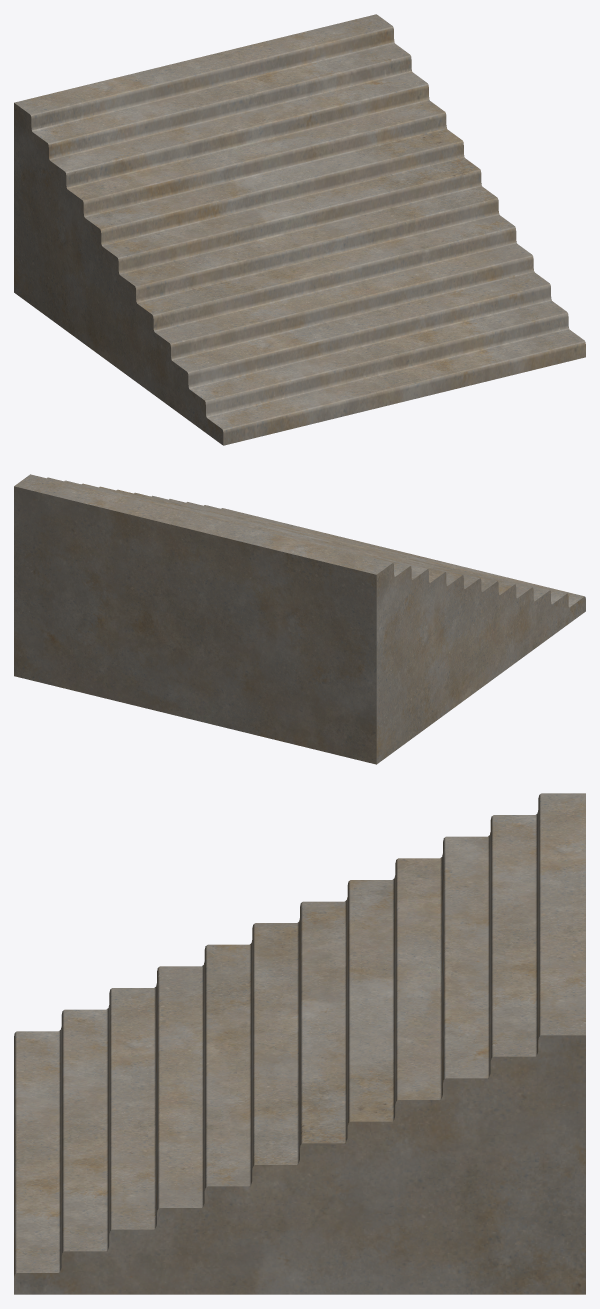
File: SM_StairsHigh_01.fbx
3 renders of one model, top to bottom at view 1: azimuth 30°, elevation 25°; view 2: azimuth 150°, elevation 25°; view 3: azimuth 270°, elevation 25°, orthographic. The views are drawn at different scales.
Parts seen in each view (by area): view 1: Stairs1; view 2: Stairs1; view 3: Stairs1.
Boxes of the visible parts, x1,y1,x2,y2 form: Stairs1: (14, 14, 585, 445); Stairs1: (14, 474, 585, 764); Stairs1: (14, 793, 585, 1294).
Bounding box in the file's own units: 500 × 250 × 500.
